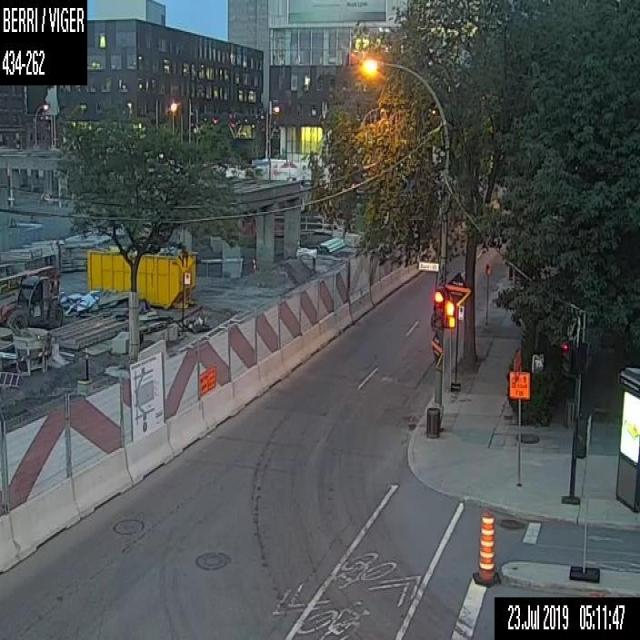construction: (0, 142, 439, 570), (506, 367, 532, 486), (472, 510, 502, 586)
vehicle: (0, 274, 64, 329)
